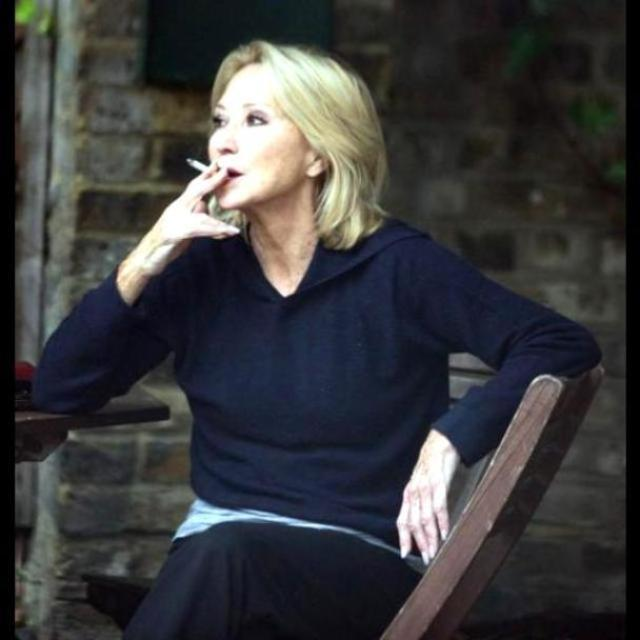rokok: (178, 158, 236, 184)
